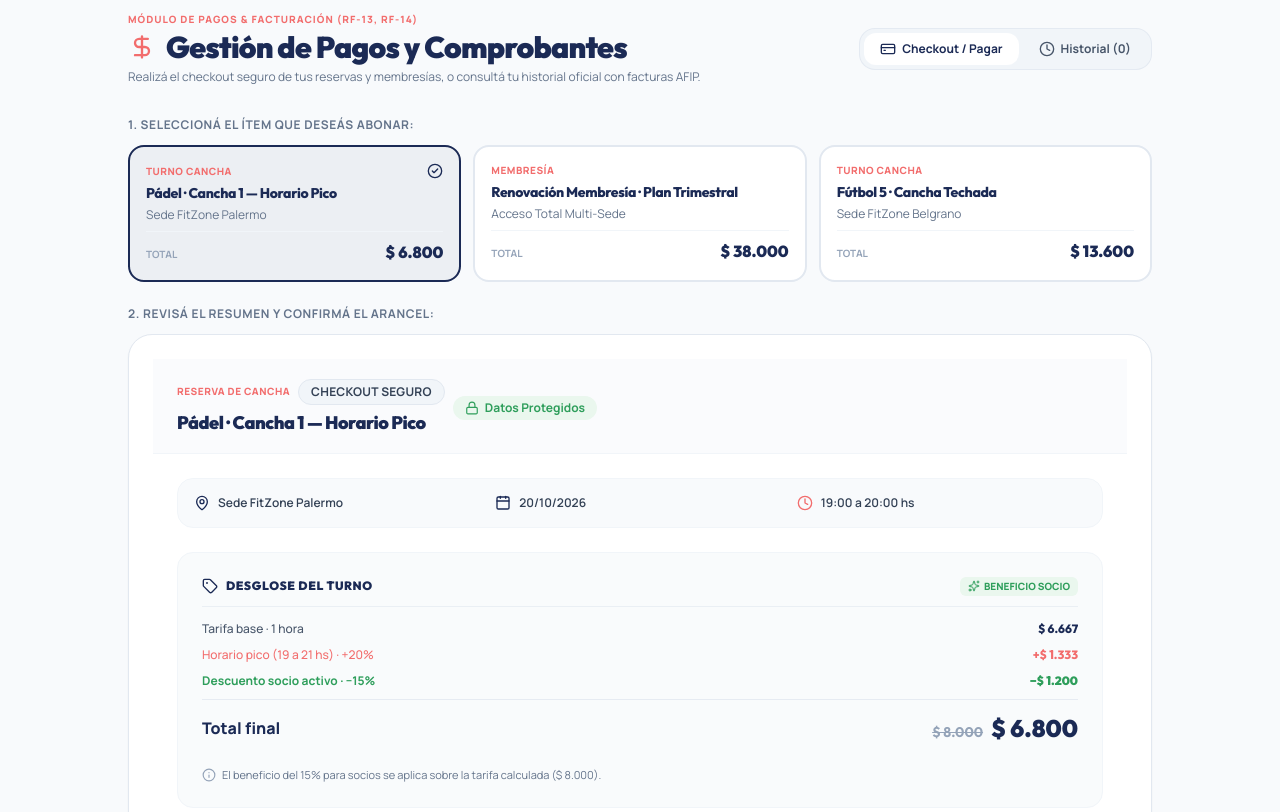
it: PagosPage (Integración RF-13, RF-14, SCRUM-86) › permite cambiar a la pestaña de Historial y muestra las transacciones y métricas
Click the button "Historial (0)". click: (1085, 48)
box: [1023,32,1147,64]
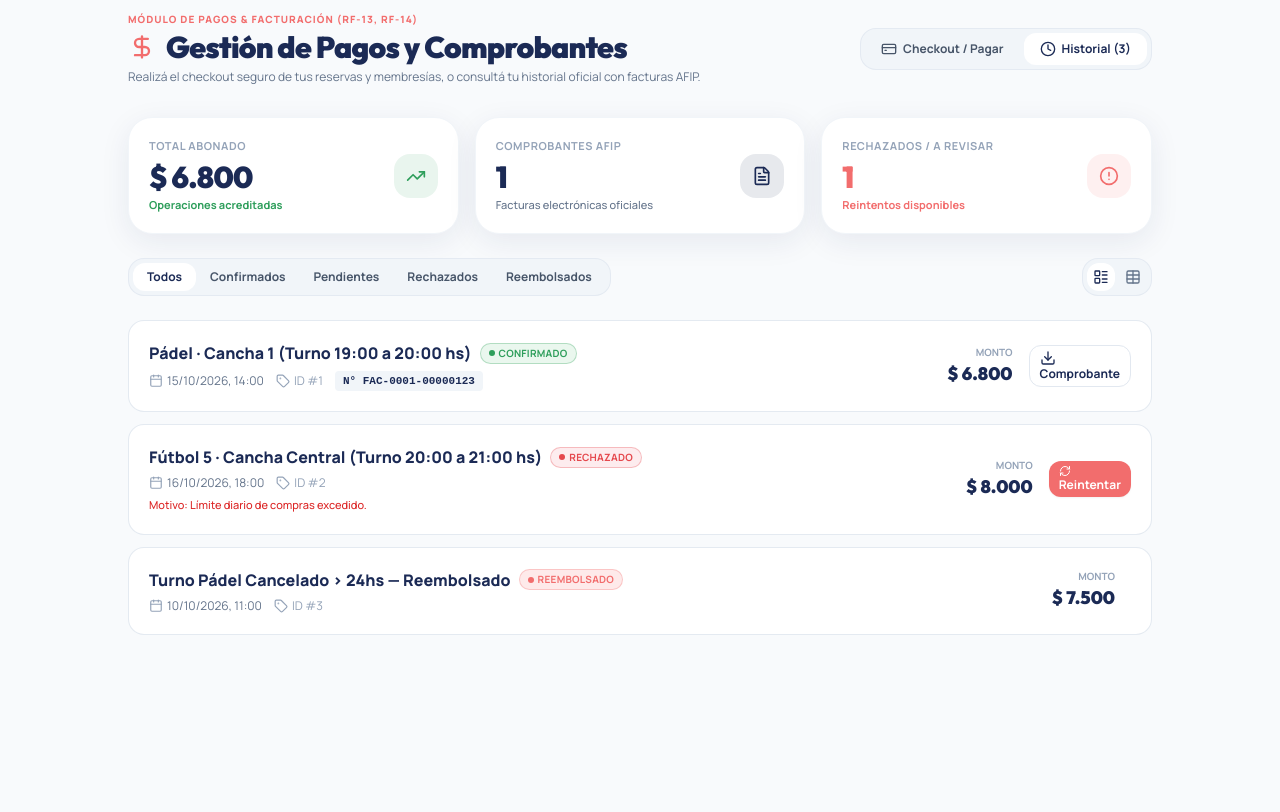
Now the text "Total Abonado" is shown, box [149,138,246,153]
Now the text "Comprobantes AFIP" is shown, box [496,138,621,153]
Now the text "Rechazados / A Revisar" is shown, box [842,138,994,154]
